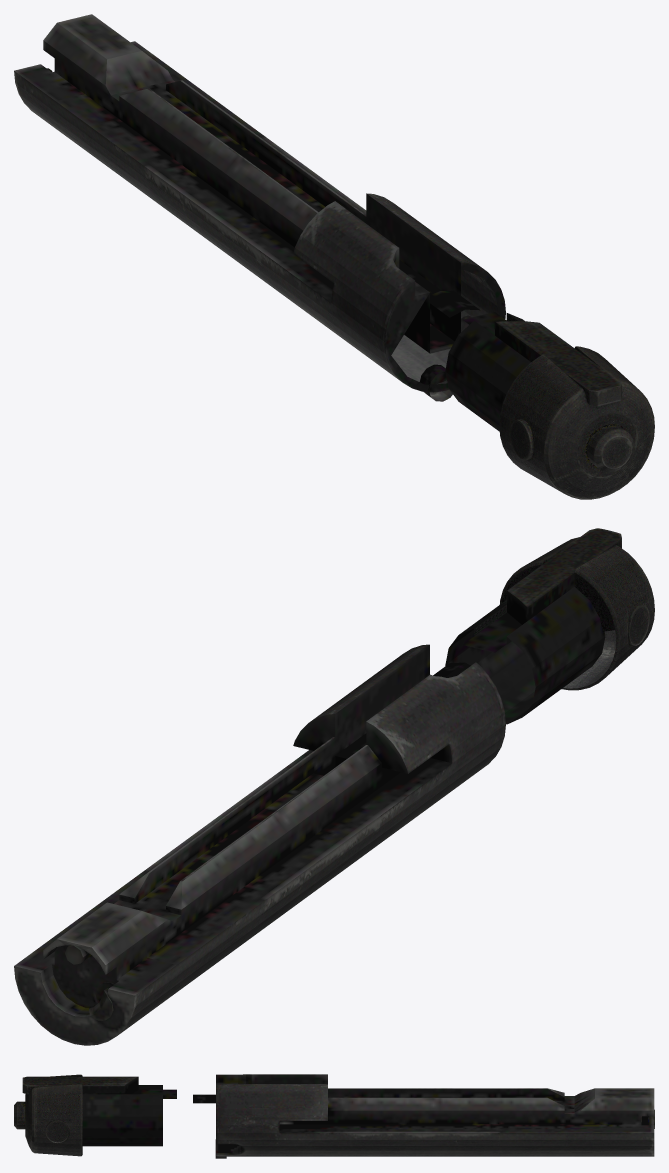
The picture shows the model from 3 angles, top to bottom: view 1: azimuth 30°, elevation 25°; view 2: azimuth 150°, elevation 25°; view 3: azimuth 270°, elevation 25°; orthographic projection. The views are drawn at different scales.
Parts seen in each view (by area): view 1: TW_5de652c31b7e3716273428be_PZ_Import; view 2: TW_5de652c31b7e3716273428be_PZ_Import; view 3: TW_5de652c31b7e3716273428be_PZ_Import.
Boxes of the visible parts, bbox=[...] form: TW_5de652c31b7e3716273428be_PZ_Import: bbox=[14, 14, 654, 499]; TW_5de652c31b7e3716273428be_PZ_Import: bbox=[14, 528, 654, 1045]; TW_5de652c31b7e3716273428be_PZ_Import: bbox=[14, 1074, 654, 1158].
Bounding box in the file's own units: 0.0116 × 0.0898 × 0.0122.
1 material, 1 textured.
